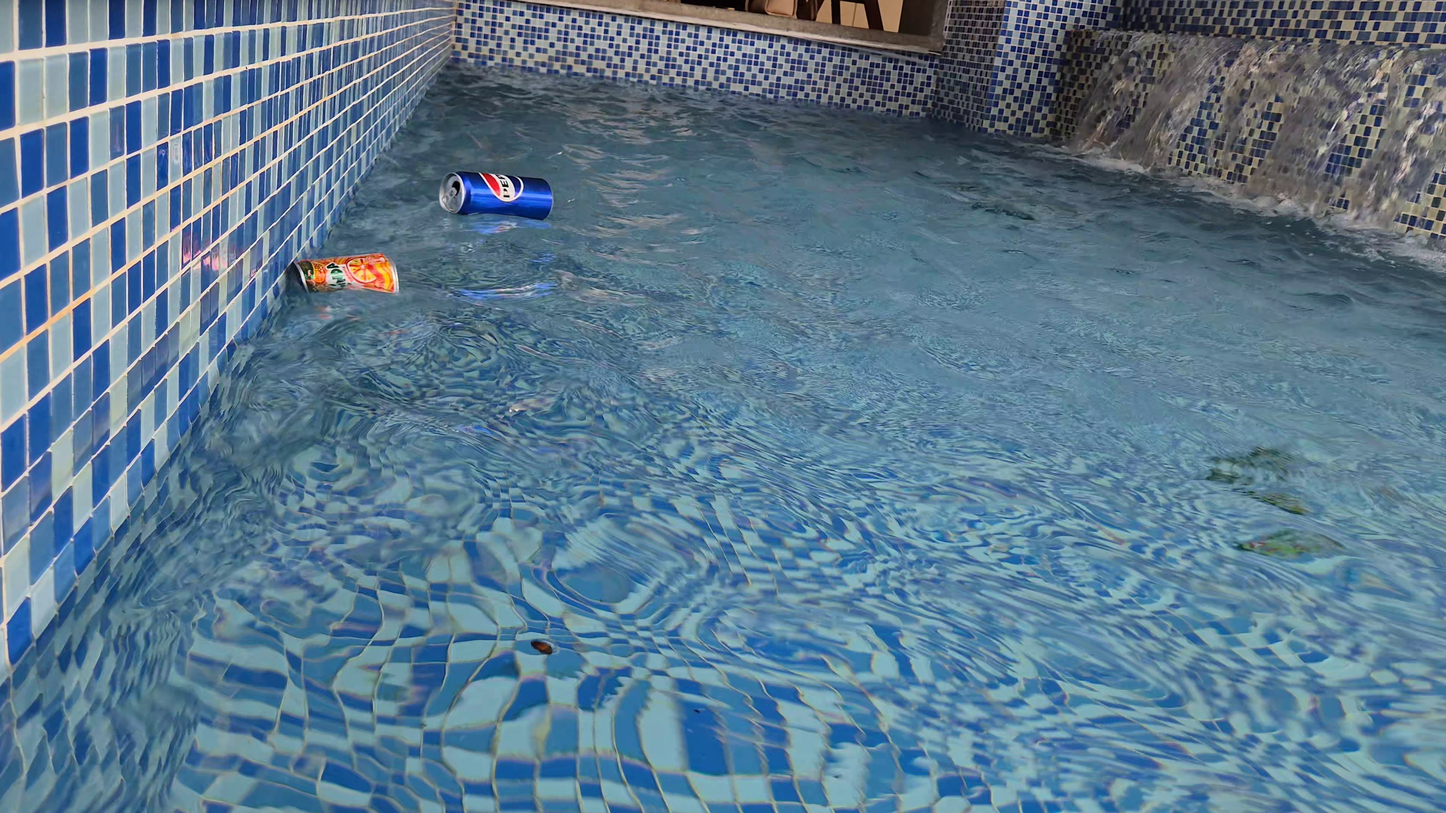debris: (436, 163, 557, 227), (286, 246, 402, 302)
